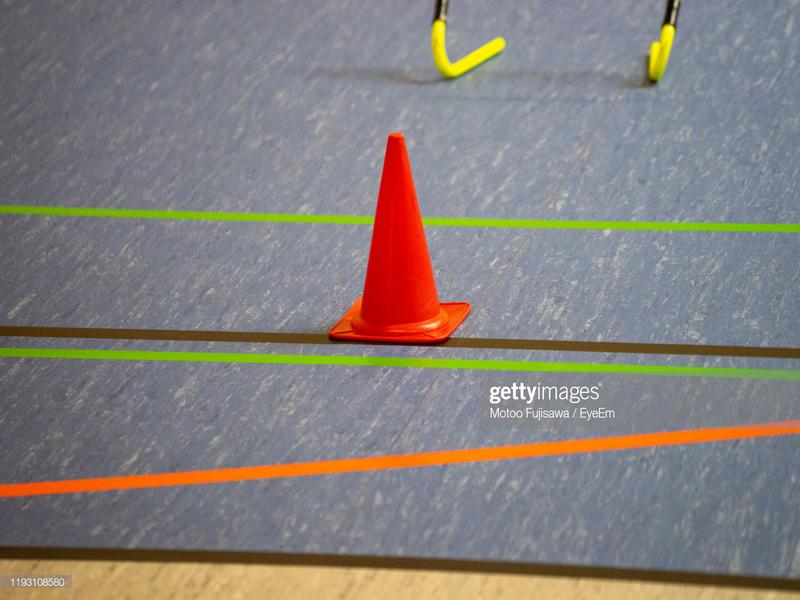Cone: (328, 132, 471, 343)
